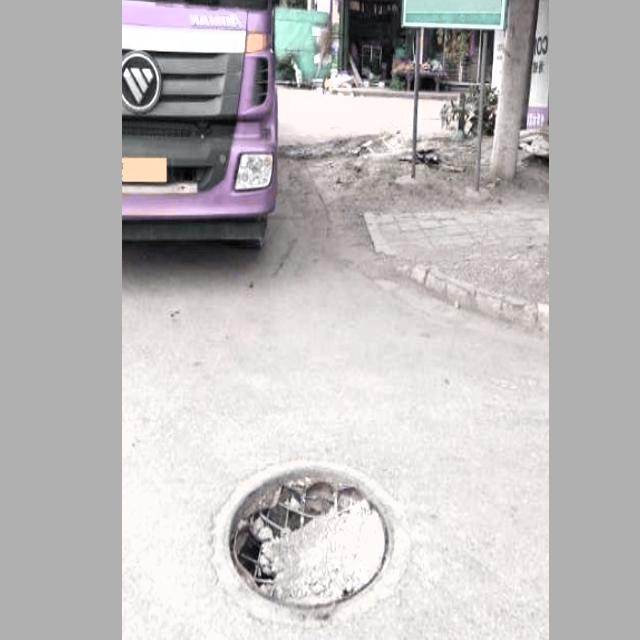broke: (215, 456, 411, 625)
